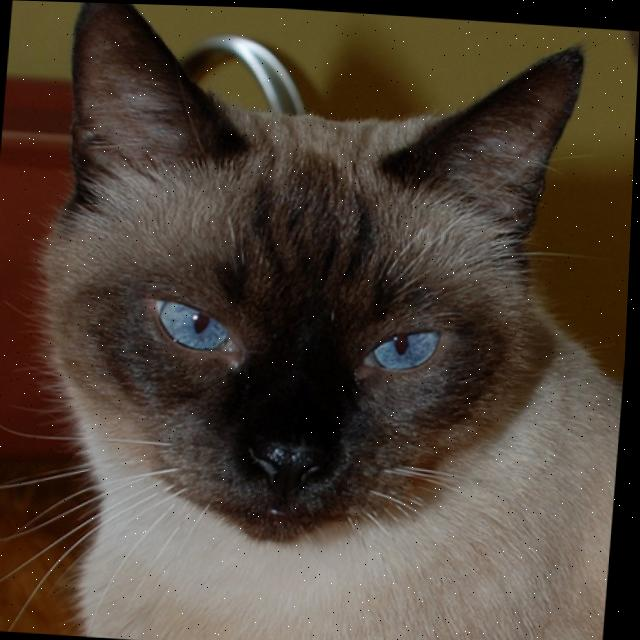Siamese: (11, 1, 640, 640)
